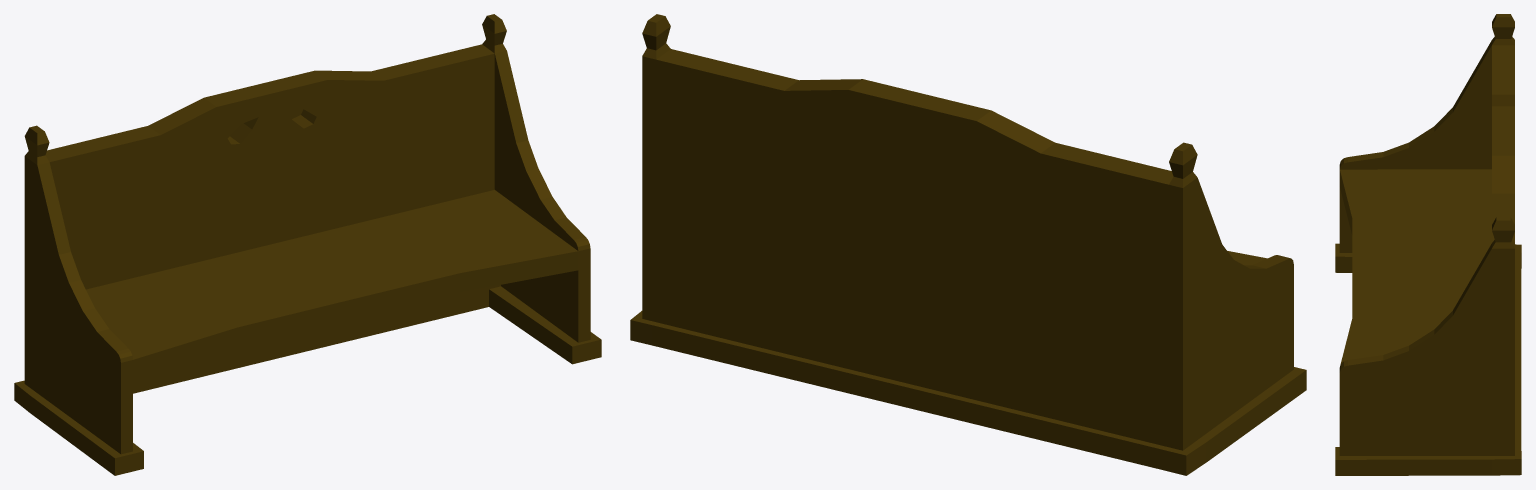
The model's file is asiento.fbx.
3 renders of one model, left to right at view 1: azimuth 30°, elevation 25°; view 2: azimuth 150°, elevation 25°; view 3: azimuth 270°, elevation 25°, orthographic. The views are drawn at different scales.
Visible parts, largest first — view 1: asiento; view 2: asiento; view 3: asiento.
Boxes of the visible parts, x1=… form: asiento: x1=14, y1=14, x2=601, y2=475; asiento: x1=630, y1=14, x2=1306, y2=475; asiento: x1=1335, y1=14, x2=1521, y2=475.
Size of the model in its own units: 207 by 112 by 75.51.
